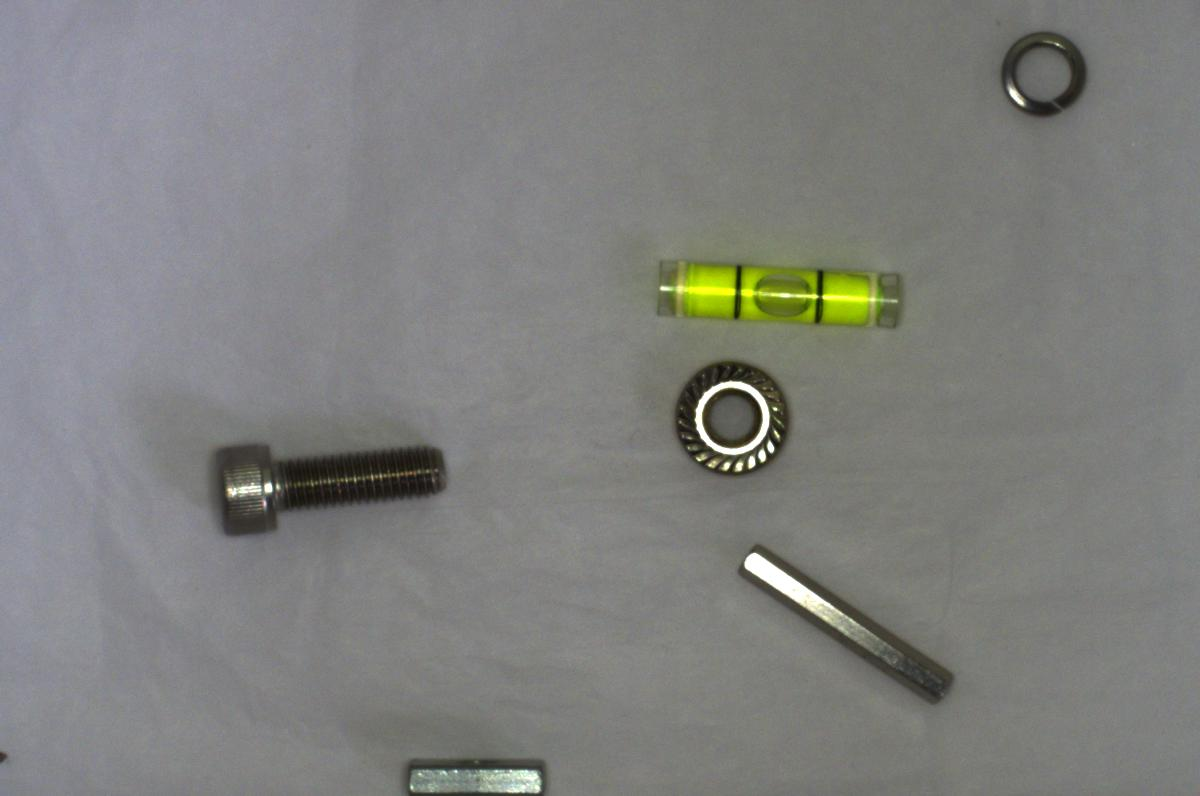Double hexagonal column: (726, 535, 960, 709)
Flange nut: (661, 349, 792, 479)
Hexagon screw: (204, 433, 453, 539)
Horizontal bubble: (646, 249, 917, 340)
Rectangular nut: (398, 746, 549, 795)
Spring washer: (990, 21, 1098, 121)
